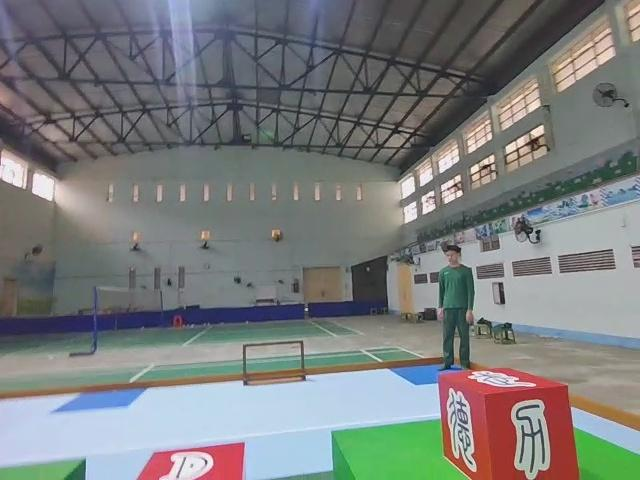R2 Fake: (439, 369, 588, 480)
R2 Real: (130, 438, 256, 480)
